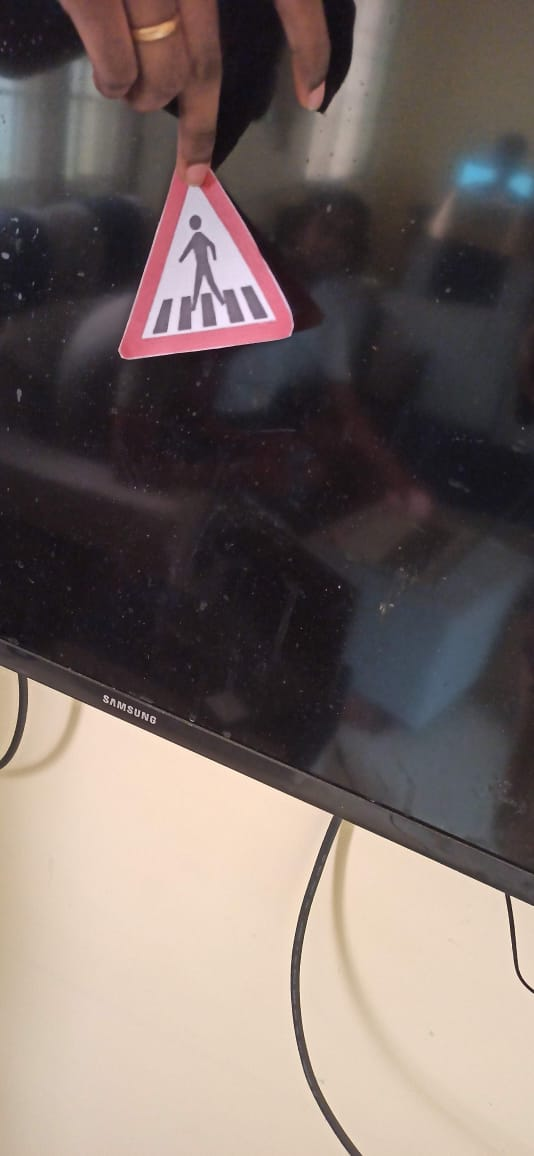PEDESTRIAN CROSSING: (104, 151, 311, 353)
